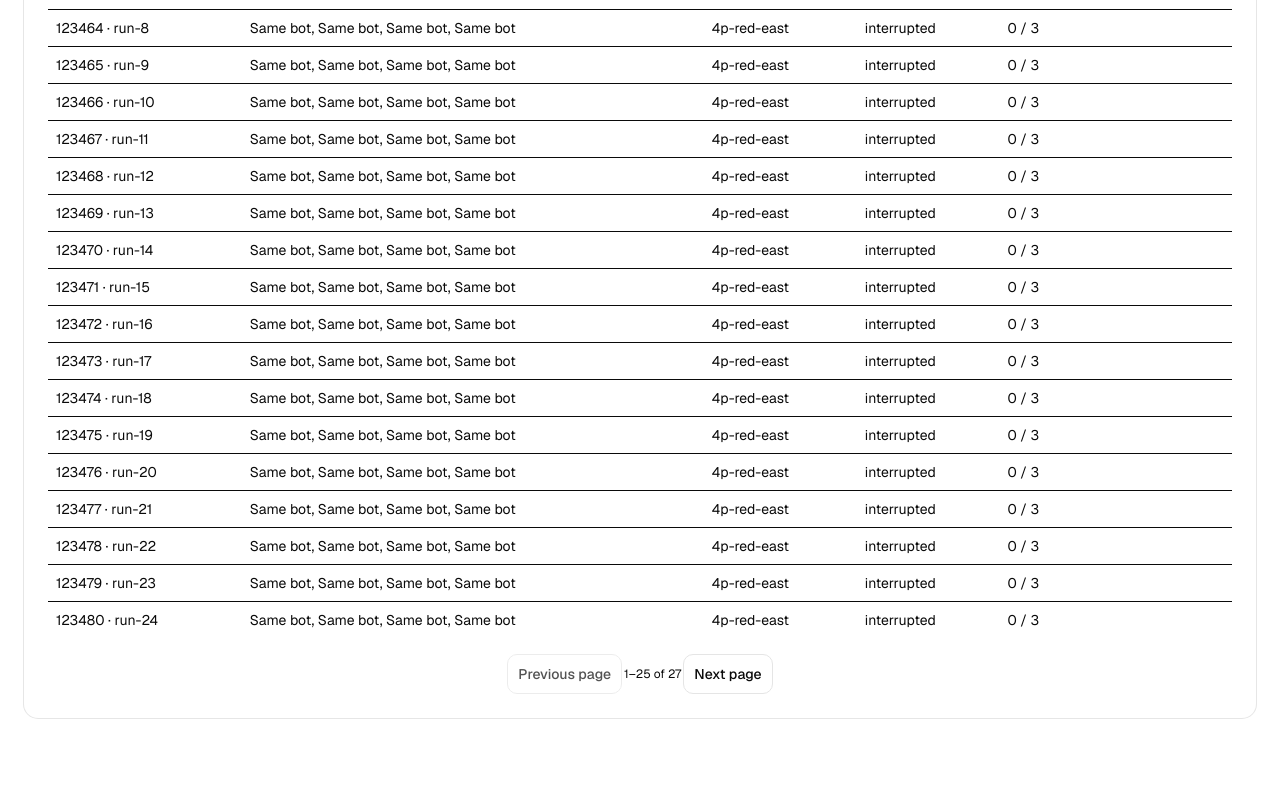
Test case: locally pages and filters loaded history without aggressive index polling
This screenshot has width=1280, height=798.
(page scrolled)
Click the button "Next page".
click(728, 674)  # box x1=683 y1=654 x2=773 y2=694
(page scrolled)
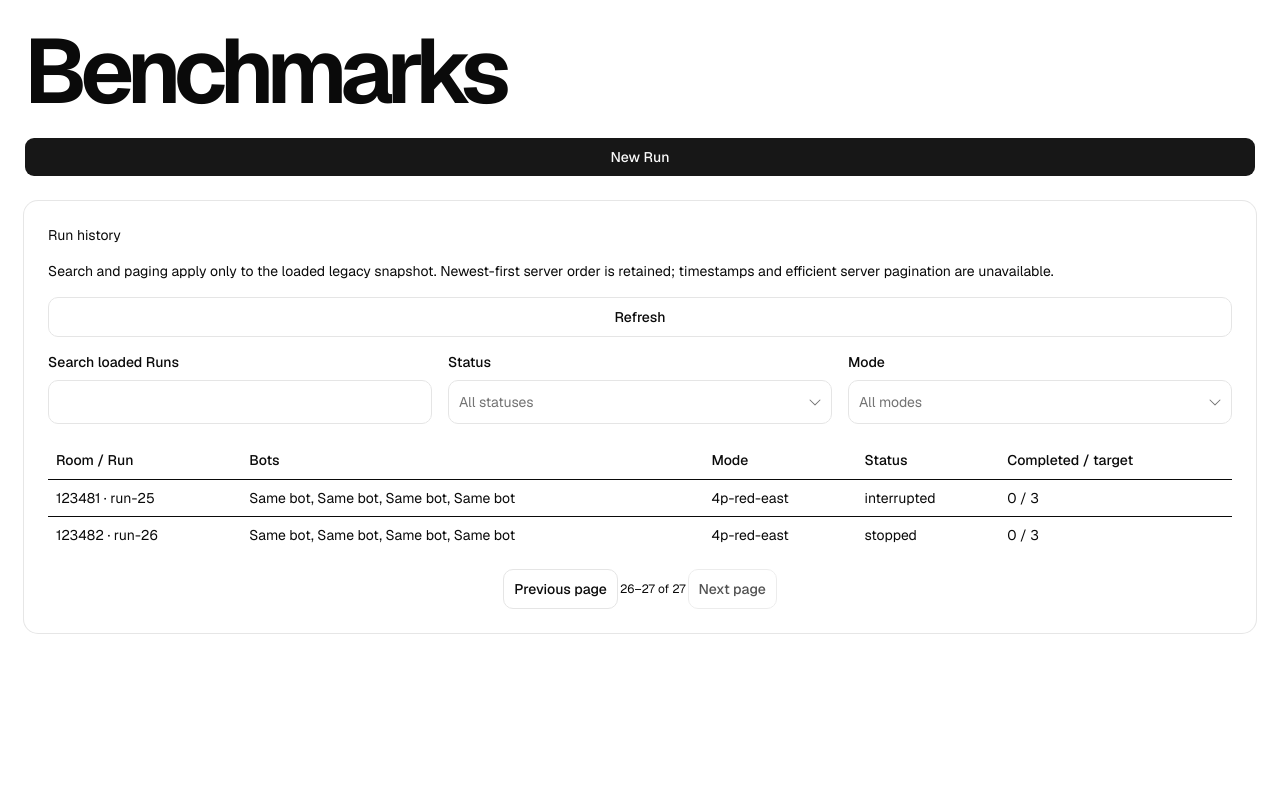
Now the number of rows is 3, box x1=48 y1=440 x2=1232 y2=480; x1=48 y1=480 x2=1232 y2=517; x1=48 y1=517 x2=1232 y2=553
Click the dropdown labelled "status".
click(496, 402)  # box x1=448 y1=380 x2=832 y2=424
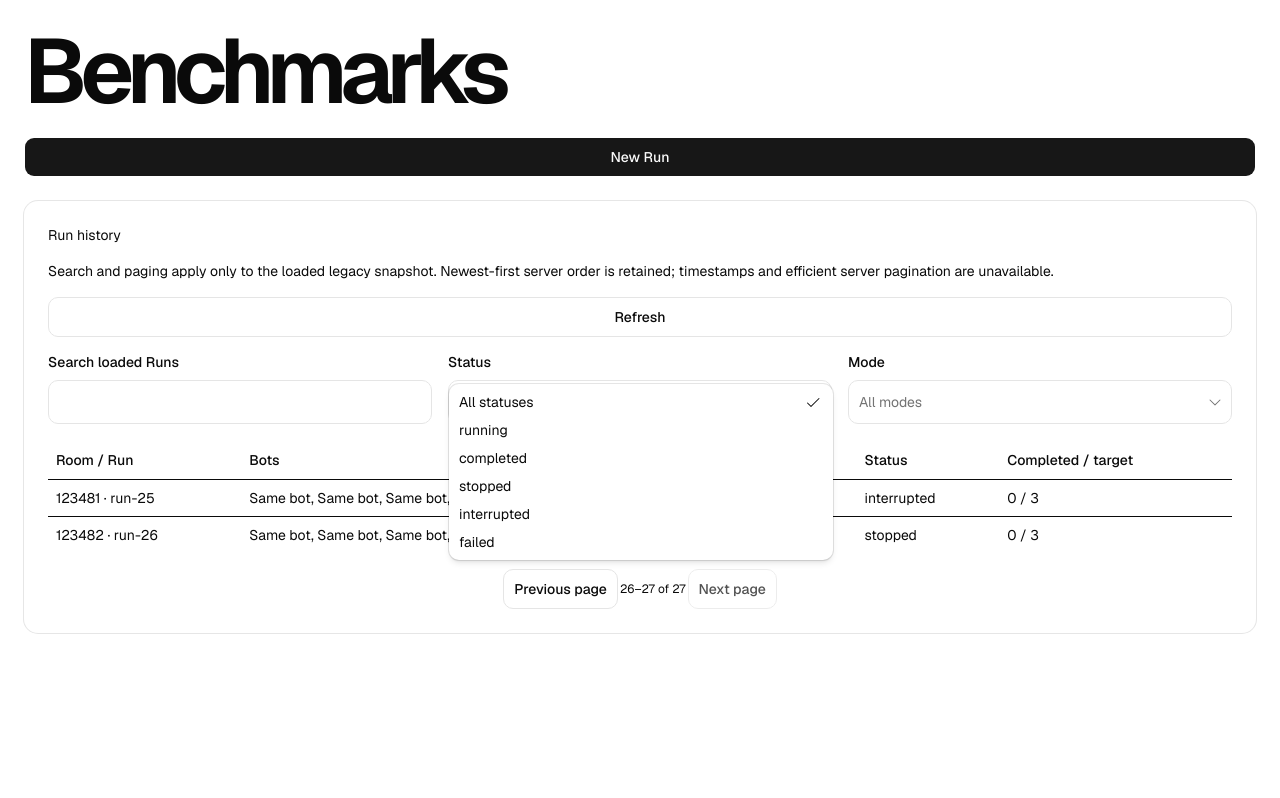
Click the option "stopped".
click(485, 486)  # box x1=459 y1=477 x2=511 y2=495
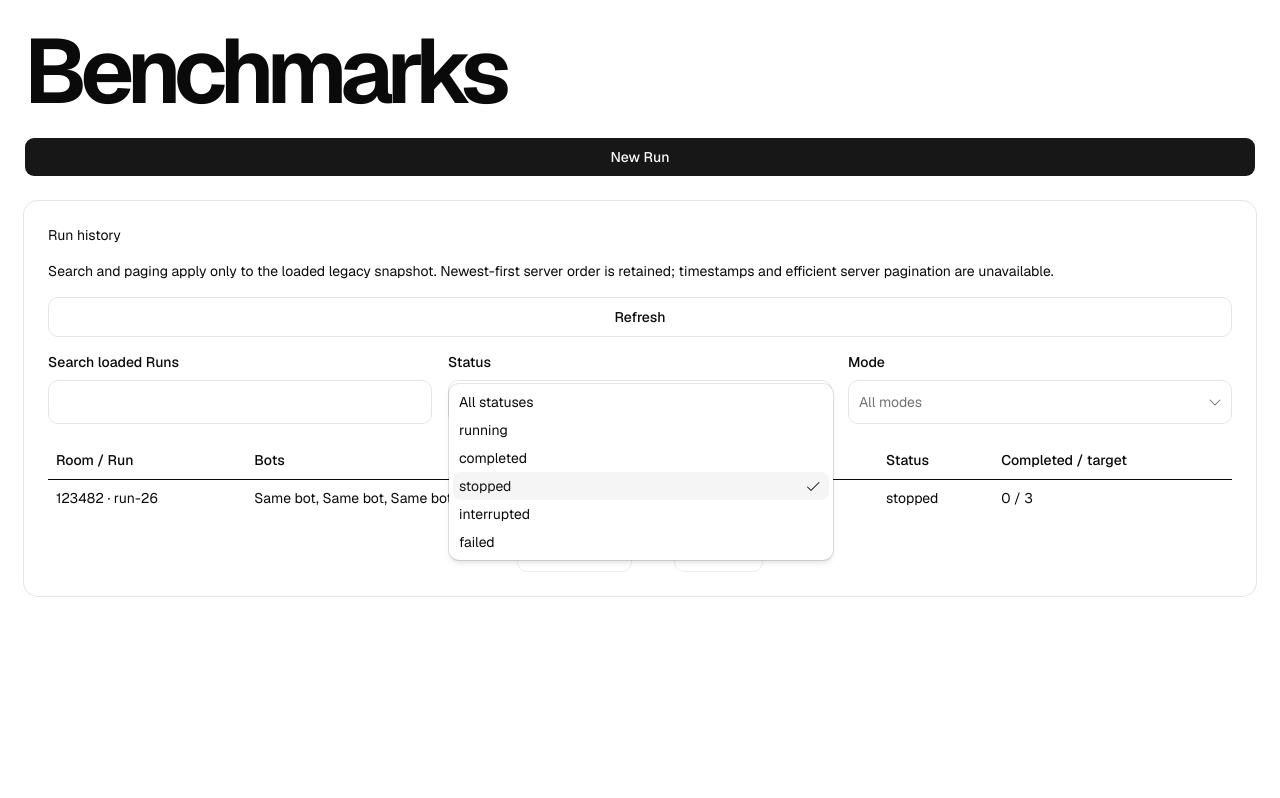
Now the link "123482 · run-26" is shown, box x1=56 y1=488 x2=158 y2=508
Now the number of rows is 2, box x1=48 y1=440 x2=1232 y2=480; x1=48 y1=480 x2=1232 y2=516
Type "missing" into the search field labelled "Search loaded Runs".
click(240, 402); type("missing")  # box x1=48 y1=380 x2=432 y2=424
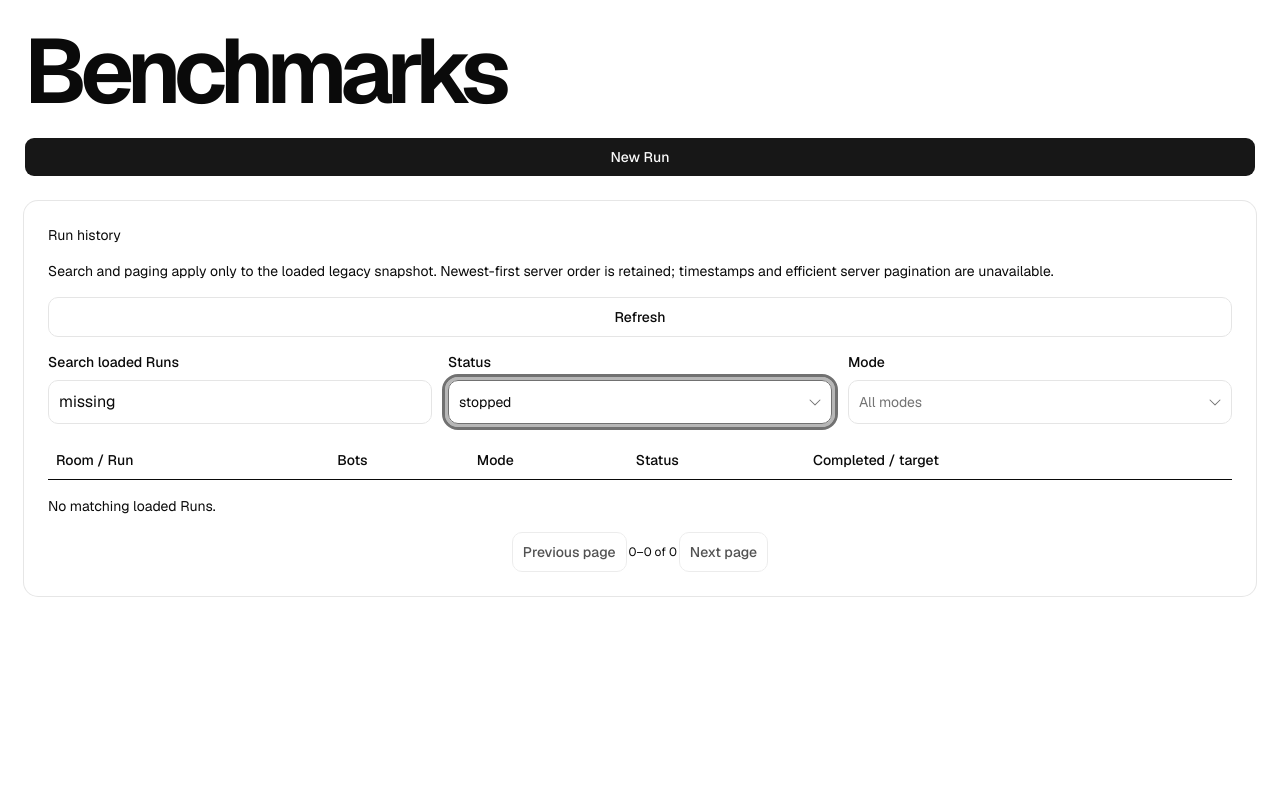
Now the text "No matching loaded Runs." is shown, box x1=48 y1=497 x2=216 y2=515
